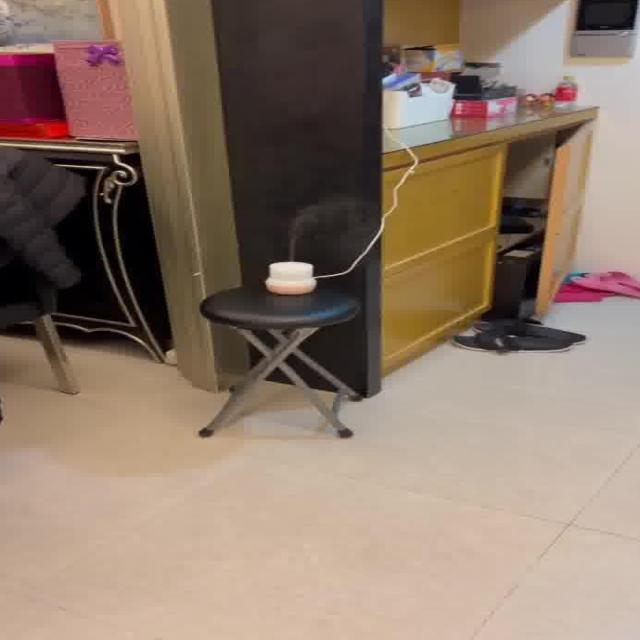fire: (279, 203, 360, 253)
